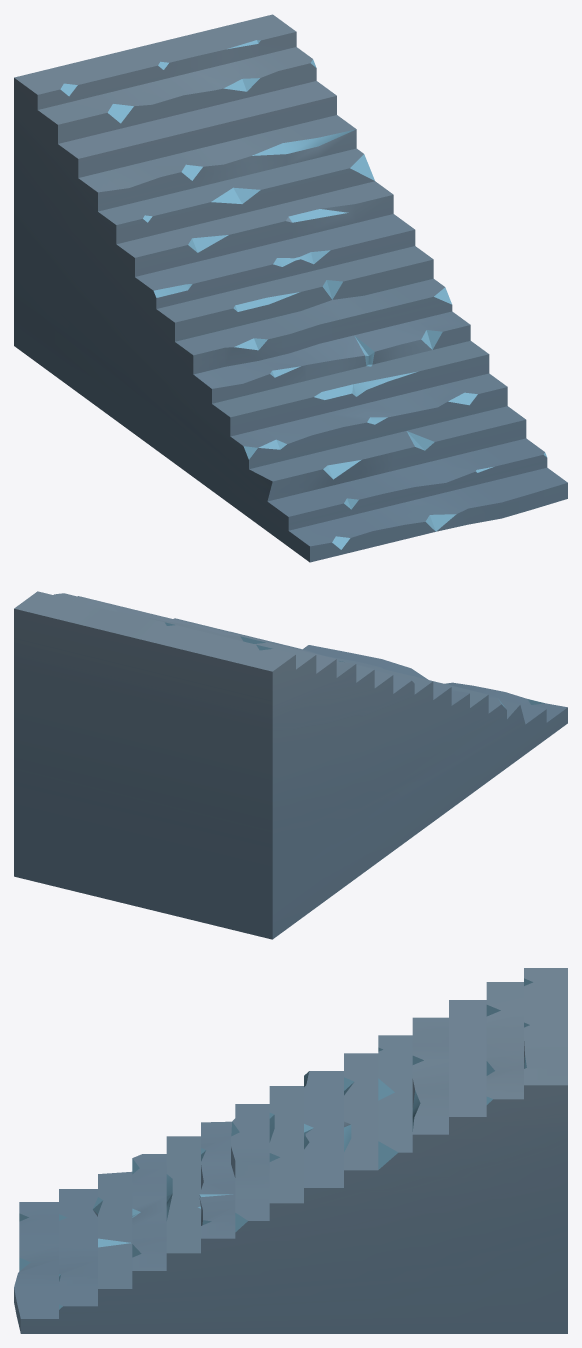
File: Stair_Full_01.glb
3 renders of one model, top to bottom at view 1: azimuth 30°, elevation 25°; view 2: azimuth 150°, elevation 25°; view 3: azimuth 270°, elevation 25°, orthographic. The views are drawn at different scales.
Visible parts, largest first — view 1: Stair_Full_01; view 2: Stair_Full_01; view 3: Stair_Full_01.
Part boxes in pixels (bbox=[...]): Stair_Full_01: bbox=[14, 14, 567, 562]; Stair_Full_01: bbox=[14, 591, 567, 939]; Stair_Full_01: bbox=[14, 968, 567, 1333].
Bounding box in the file's own units: 4.04 × 4 × 8.07.
Materials: 1 (1 with a texture image).
